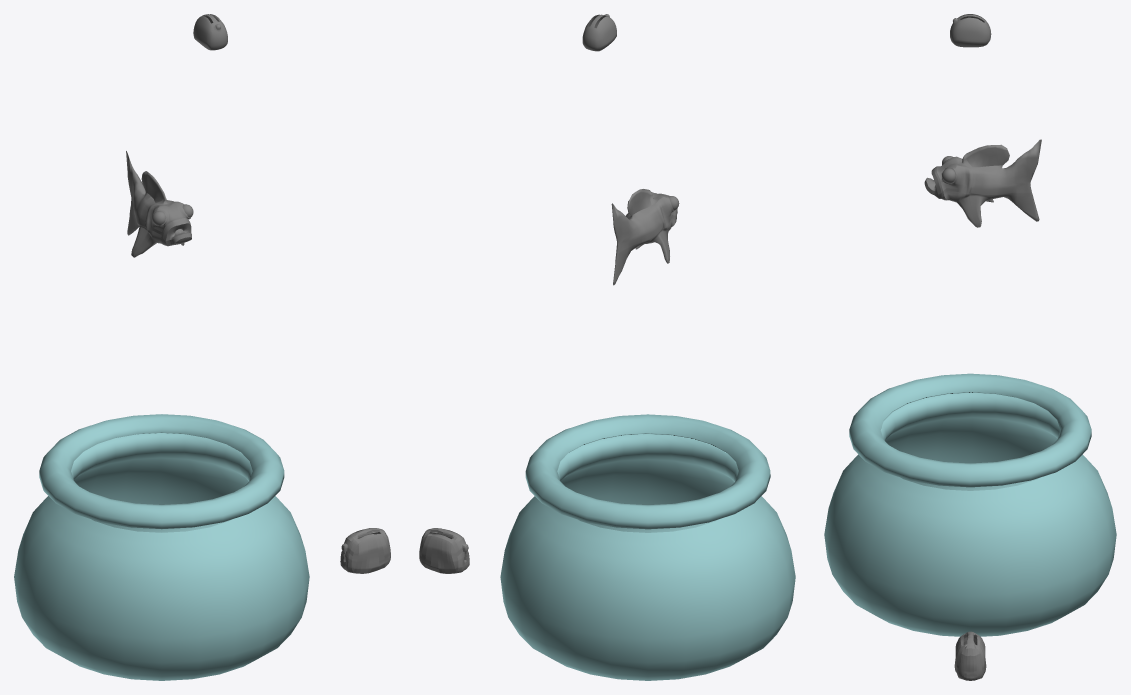
Rendered from Fish_Props.obj.
3 views of the same model, side by side, from view 1: azimuth 30°, elevation 25°; view 2: azimuth 150°, elevation 25°; view 3: azimuth 270°, elevation 25° (orthographic).
Parts seen in each view (by area): view 1: Bowl_Mesh, Fish_Mesh, pasted__polySurface1 group4, Toaster_Mesh; view 2: Bowl_Mesh, Fish_Mesh, pasted__polySurface1 group4, Toaster_Mesh; view 3: Bowl_Mesh, Fish_Mesh, pasted__polySurface1 group4, Toaster_Mesh.
Part boxes in pixels (x1,y1,x2,y2): Bowl_Mesh: (14,414,309,680); Fish_Mesh: (126,151,191,257); pasted__polySurface1 group4: (340,528,390,573); Toaster_Mesh: (193,14,227,50); Bowl_Mesh: (500,414,795,680); Fish_Mesh: (611,189,677,285); pasted__polySurface1 group4: (419,528,469,573); Toaster_Mesh: (582,14,616,51); Bowl_Mesh: (824,373,1116,636); Fish_Mesh: (924,139,1041,227); pasted__polySurface1 group4: (954,631,986,680); Toaster_Mesh: (950,14,991,47).
Bounding box in the file's own units: 30.7 × 51.6 × 22.2.
